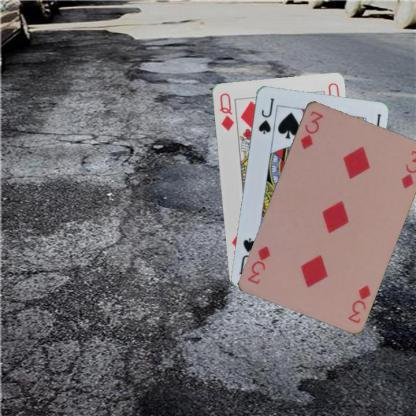3d: (297, 108, 325, 150), (344, 282, 372, 324)
Js: (256, 96, 276, 136)
Qd: (216, 90, 235, 132)
